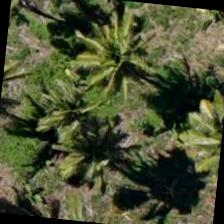Kelapa_Sawit: (63, 11, 162, 110), (44, 109, 142, 208)
